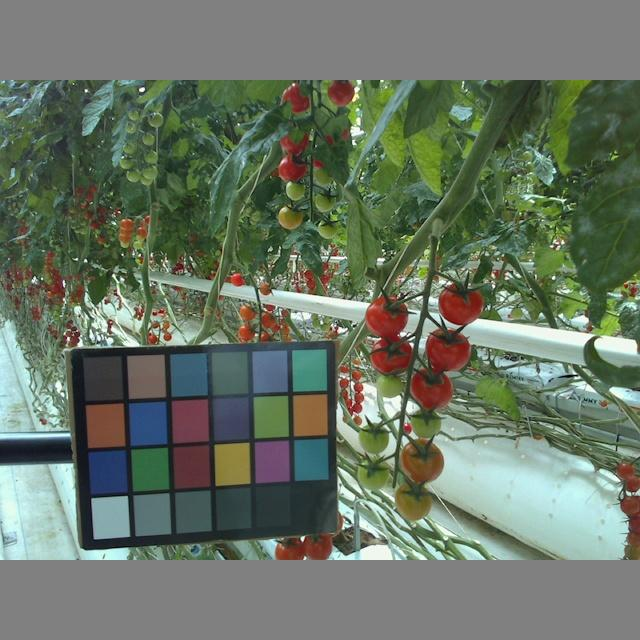green: (356, 457, 388, 489), (357, 425, 388, 453), (377, 375, 403, 399), (314, 192, 336, 212), (285, 178, 304, 201), (319, 217, 339, 237)
pink: (399, 441, 444, 482), (394, 484, 432, 523), (277, 205, 304, 230)
red: (437, 283, 485, 323), (424, 333, 473, 371), (364, 295, 408, 336), (408, 371, 454, 410), (369, 337, 414, 375), (278, 85, 311, 112), (328, 81, 356, 108), (302, 536, 333, 560), (280, 154, 307, 181), (272, 538, 303, 560)
